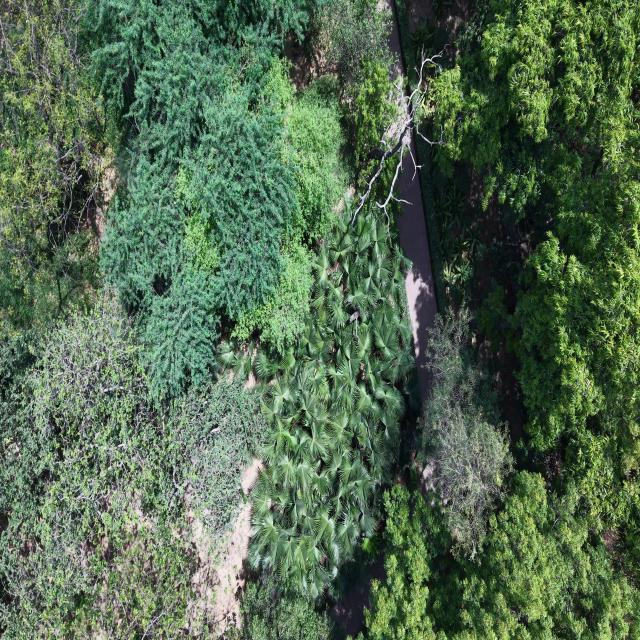DRY_AREA: (397, 155, 437, 398), (397, 156, 437, 398), (191, 501, 251, 634)
VEGETATION_TREE: (0, 0, 639, 639), (0, 0, 371, 637), (366, 0, 639, 638), (432, 0, 639, 528), (91, 3, 352, 396), (364, 308, 639, 639), (0, 291, 263, 637), (221, 202, 414, 597), (101, 48, 298, 395), (366, 472, 639, 639), (433, 0, 639, 220), (0, 0, 107, 330), (232, 59, 352, 353), (460, 472, 639, 638), (417, 308, 511, 557), (166, 377, 265, 531), (310, 0, 397, 167), (365, 485, 450, 639), (286, 77, 353, 244), (312, 0, 392, 116), (232, 244, 313, 353), (242, 574, 343, 639), (353, 62, 397, 159)
